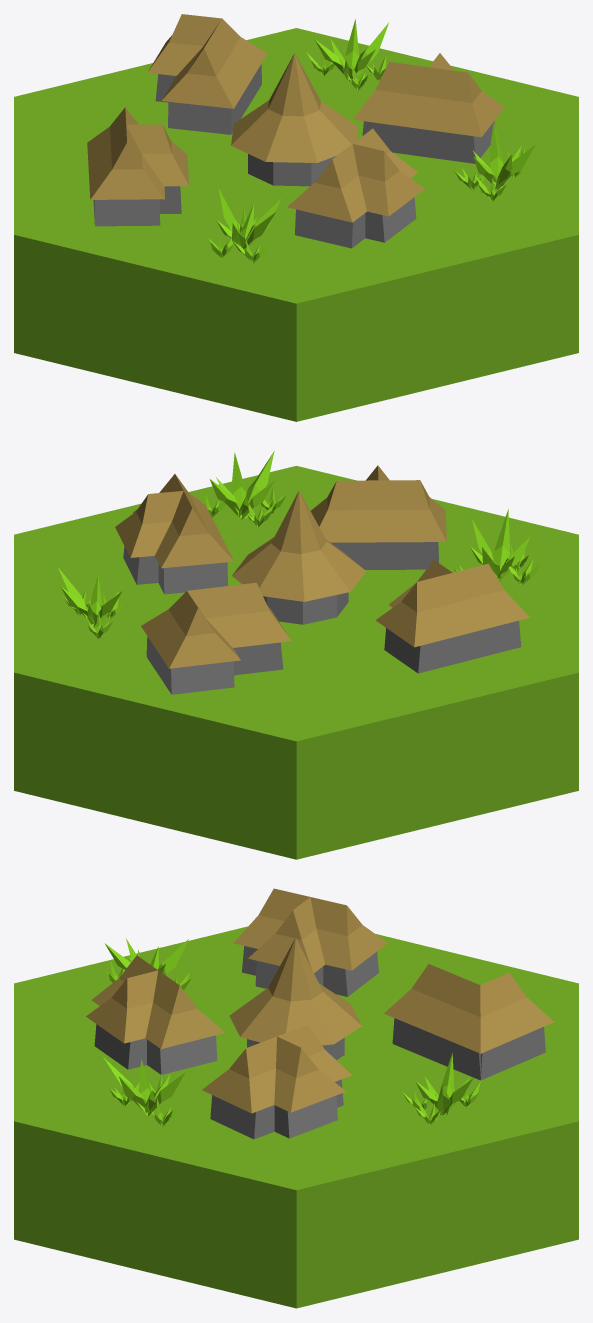
File: Casas_01.fbx
3 renders of one model, top to bottom at view 1: azimuth 30°, elevation 25°; view 2: azimuth 150°, elevation 25°; view 3: azimuth 270°, elevation 25°, orthographic.
Parts seen in each view (by area): view 1: Casas_01; view 2: Casas_01; view 3: Casas_01.
Boxes of the visible parts, x1,y1,x2,y2 form: Casas_01: [14, 14, 578, 421]; Casas_01: [14, 451, 578, 859]; Casas_01: [14, 888, 578, 1308].
Bounding box in the file's own units: 200 × 78.5 × 173.
